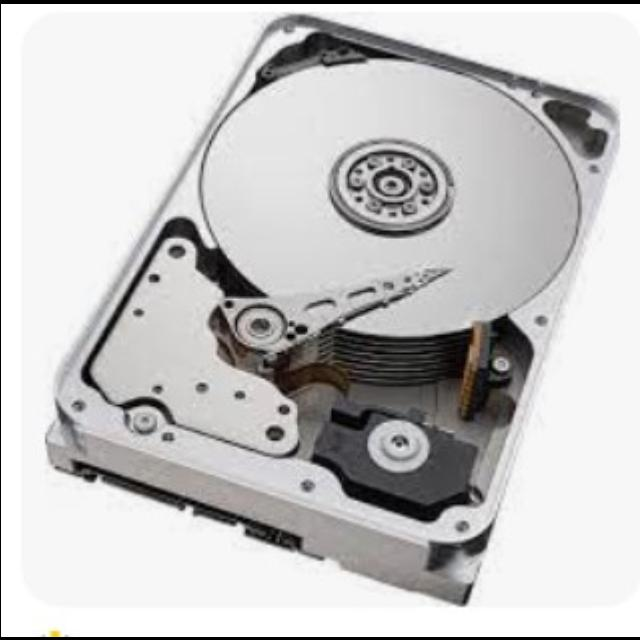HDD: (44, 17, 616, 607)
